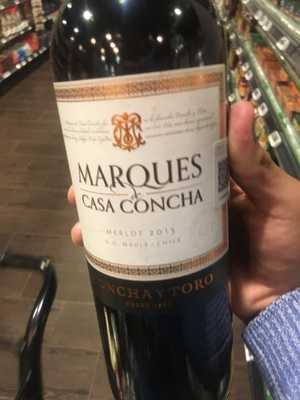marques de casa concha merlot: (55, 1, 250, 396)
